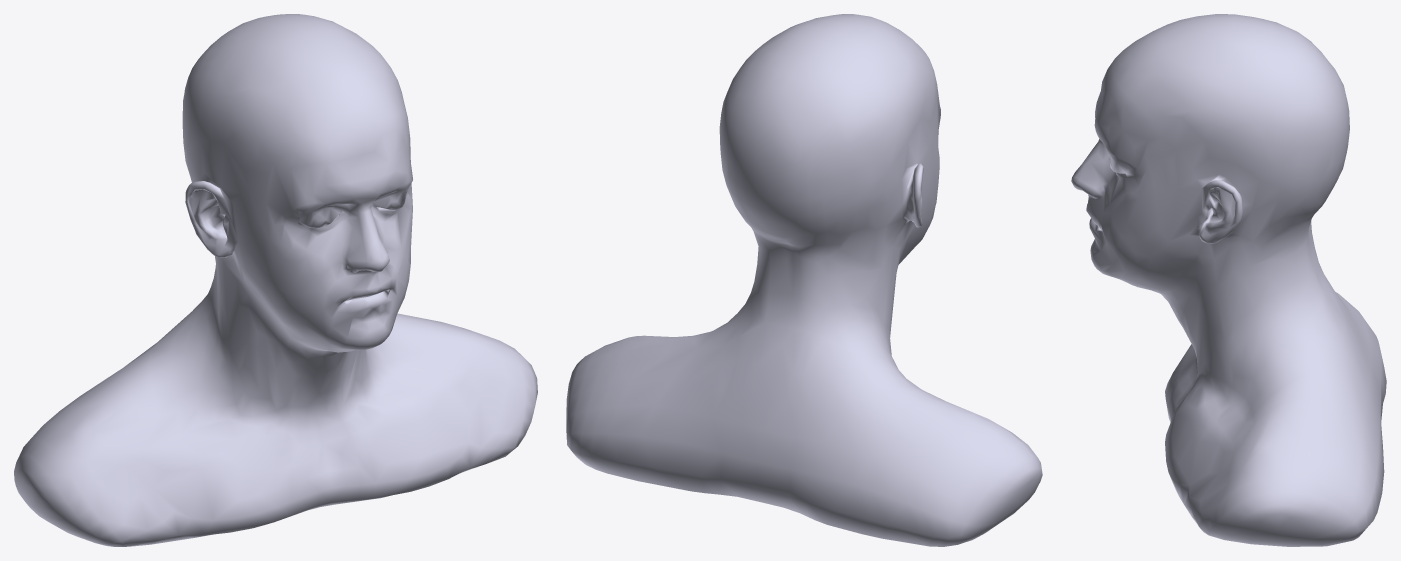
Rendered from lee-perry-smith-head.glb.
3 renders of one model, left to right at view 1: azimuth 30°, elevation 25°; view 2: azimuth 150°, elevation 25°; view 3: azimuth 270°, elevation 25°, orthographic. The views are drawn at different scales.
Parts seen in each view (by area): view 1: LeePerrySmith; view 2: LeePerrySmith; view 3: LeePerrySmith.
Part boxes in pixels (x1,y1,x2,y2): LeePerrySmith: [14, 14, 537, 546]; LeePerrySmith: [566, 14, 1042, 546]; LeePerrySmith: [1071, 14, 1386, 546].
Bounding box in the file's own units: 8.55 × 7.95 × 5.18.
